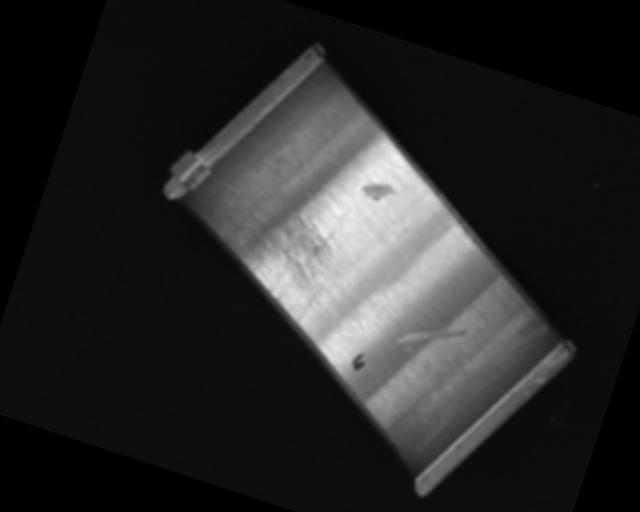blot: (349, 349, 368, 373)
bruise: (358, 176, 398, 207)
nick: (351, 309, 408, 405), (394, 311, 465, 365)
scratch: (205, 186, 358, 333)
